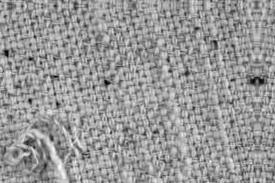snag: (1, 124, 78, 182)
